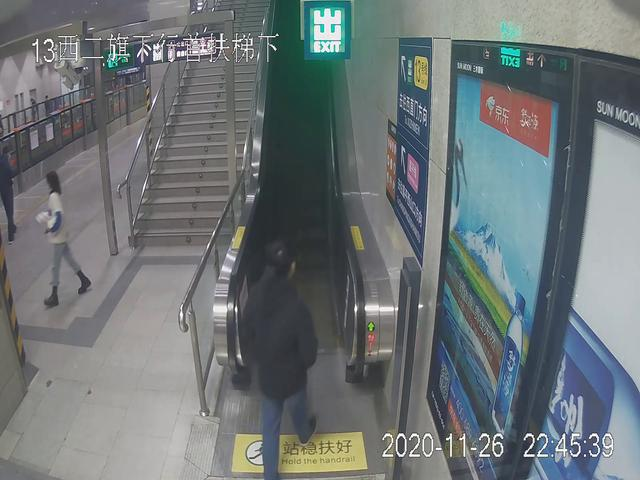person: (241, 241, 322, 480), (30, 171, 92, 303)
